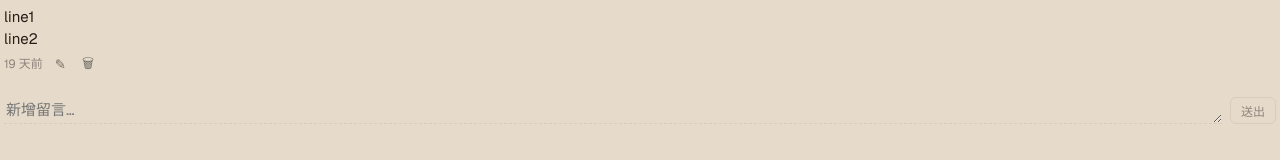
Test: CommentSection › cancels an edit on Escape
This screenshot has width=1280, height=160.
Click the button named "編輯留言" at (60, 64), box [51,55,70,74]
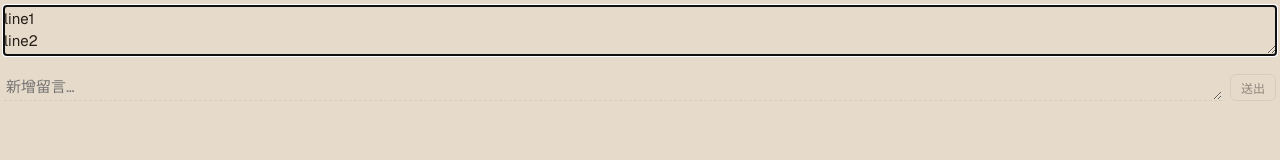
Press Escape in the text box named "編輯留言內容", box [4,6,1276,54]
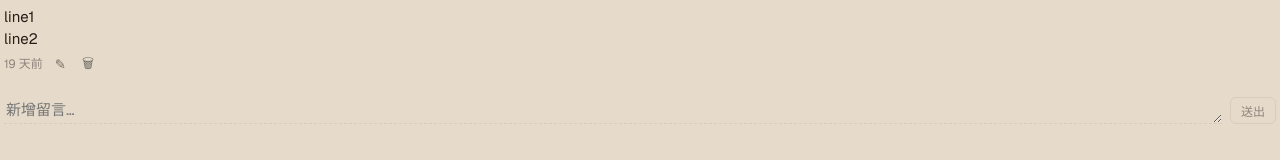
Check: the button named "編輯留言" is shown, box [51,55,70,74]
